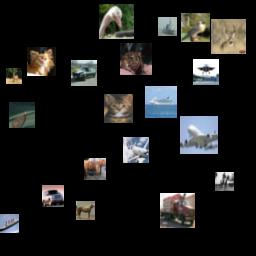airplane: (180, 116, 218, 154), (123, 137, 149, 163), (193, 59, 219, 85)
automobile: (71, 60, 97, 86), (42, 185, 64, 207)
bird: (99, 4, 134, 39), (181, 13, 210, 42), (9, 102, 35, 128)
cat: (104, 94, 133, 123)
deer: (211, 19, 246, 54), (6, 68, 22, 84)
dog: (27, 47, 56, 76)
frog: (120, 43, 152, 75)
ship: (145, 86, 177, 118), (158, 17, 177, 36), (0, 214, 19, 233)
truck: (160, 193, 195, 228)
